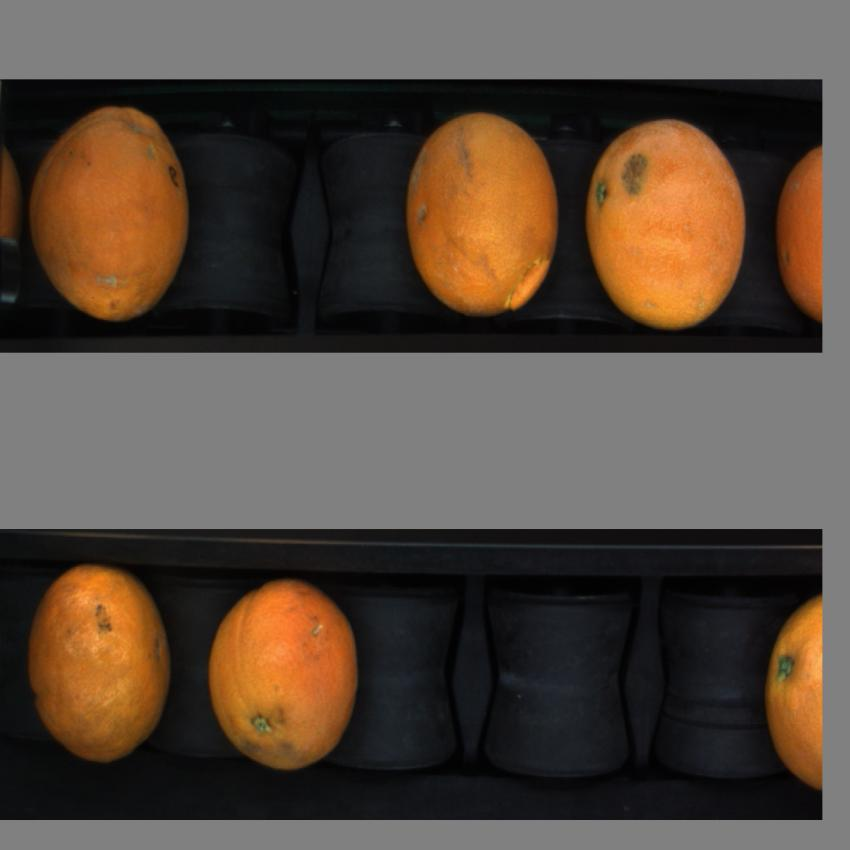Buen estado: (27, 99, 195, 325), (397, 108, 566, 320), (205, 573, 362, 777), (26, 562, 178, 772), (767, 588, 822, 799), (773, 137, 824, 325)
Mal estado: (583, 115, 752, 336)
